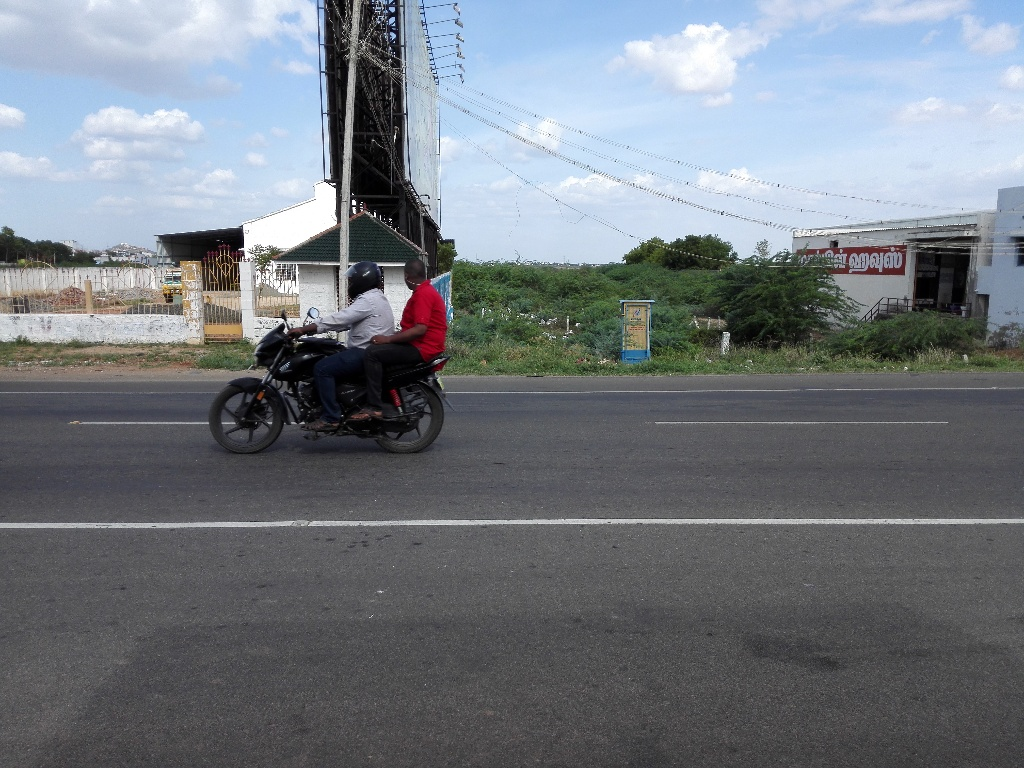biker: (183, 205, 477, 473)
helmet: (335, 251, 393, 306)
nohelmet: (396, 250, 436, 299)
